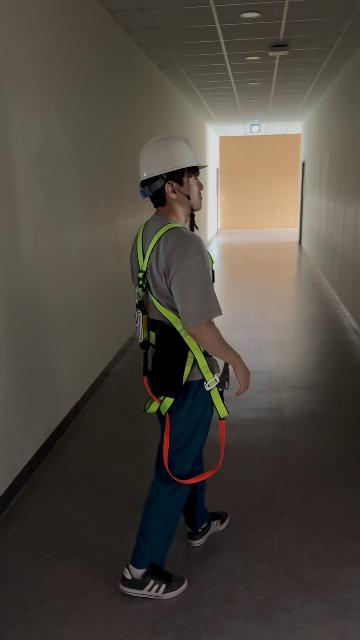helmet_worn: (137, 134, 210, 185)
shoe_not_worn: (120, 562, 187, 599), (186, 509, 230, 547)
vest_worn: (131, 226, 235, 480)
